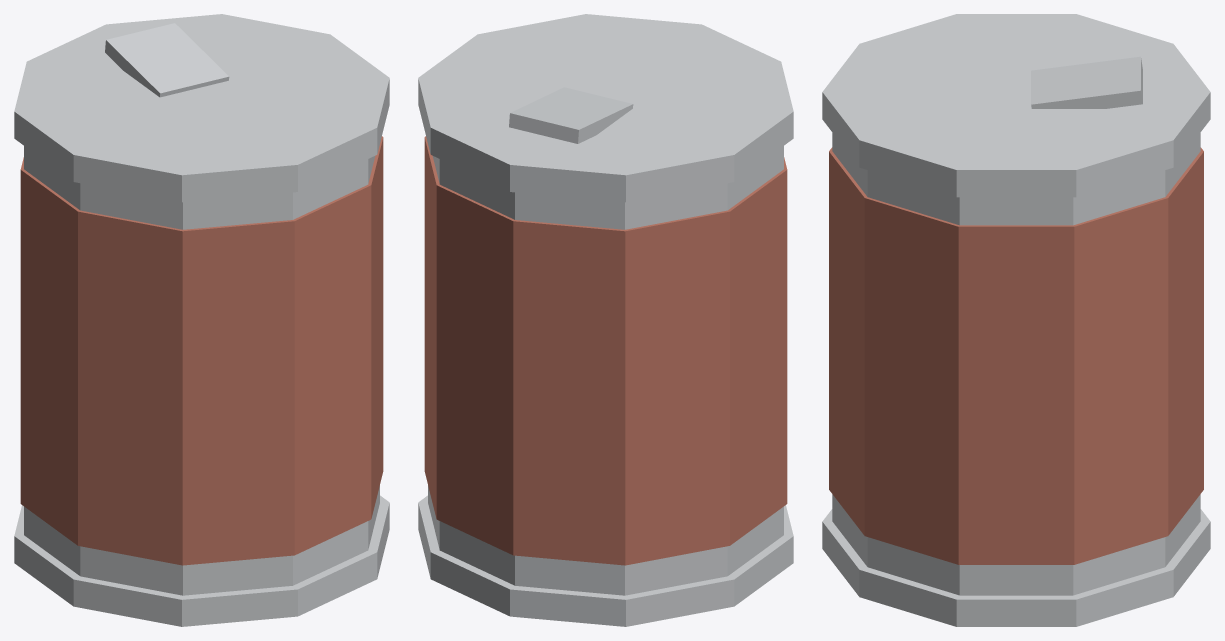
The model's file is food.glb.
3 renders of one model, left to right at view 1: azimuth 30°, elevation 25°; view 2: azimuth 150°, elevation 25°; view 3: azimuth 270°, elevation 25°, orthographic.
Visible parts, largest first — view 1: Food; view 2: Food; view 3: Food.
Boxes of the visible parts, <box> form: Food: <box>14,14,389,626</box>; Food: <box>418,14,793,626</box>; Food: <box>822,14,1210,626</box>.
Size of the model in its own units: 0.0732 by 0.104 by 0.077.
